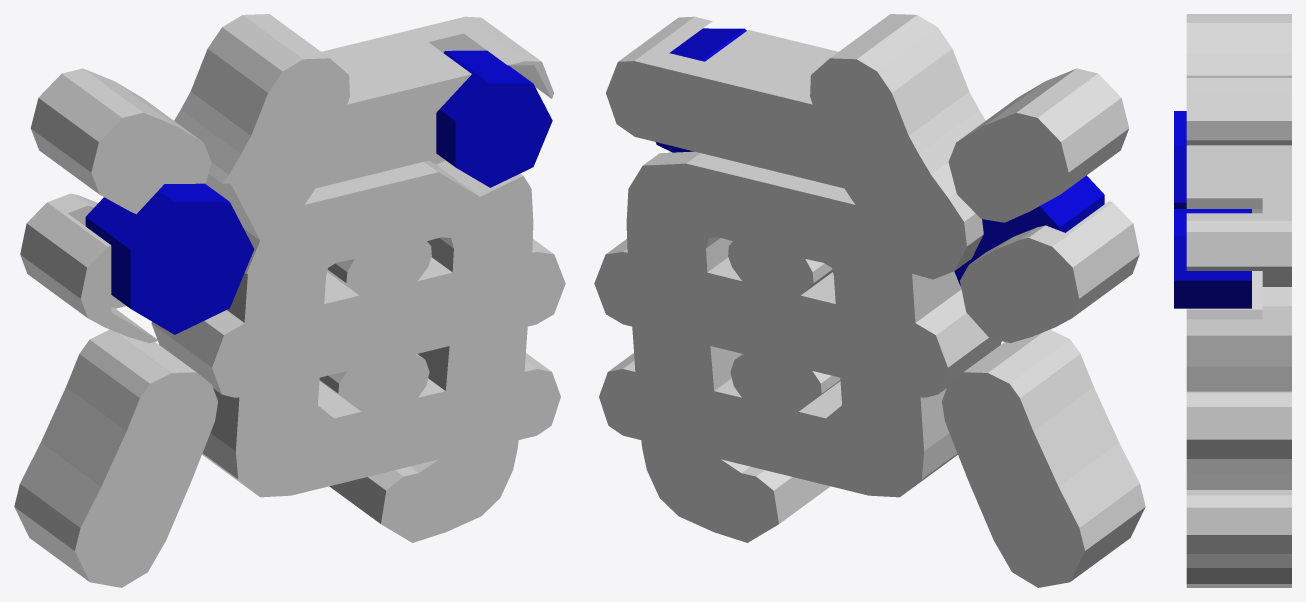
File: Ch_Lite_China_海_01.fbx
The picture shows the model from 3 angles, left to right: view 1: azimuth 30°, elevation 25°; view 2: azimuth 150°, elevation 25°; view 3: azimuth 270°, elevation 25°; orthographic projection. The views are drawn at different scales.
Parts seen in each view (by area): view 1: sphere1; view 2: sphere1; view 3: sphere1.
Boxes of the visible parts, bbox=[...] form: sphere1: bbox=[14, 14, 565, 587]; sphere1: bbox=[594, 14, 1145, 587]; sphere1: bbox=[1174, 14, 1291, 587].
Size of the model in its own units: 0.9351 by 0.9292 by 0.2242.
